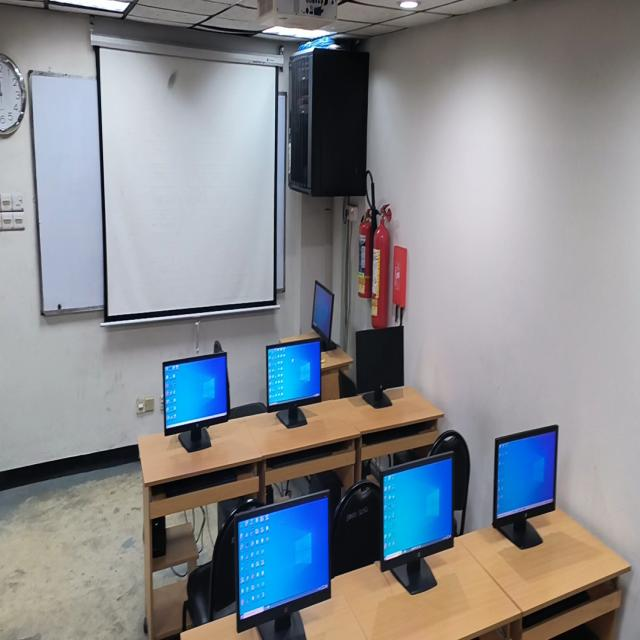Chair: (183, 507, 235, 625), (331, 475, 379, 578), (430, 422, 467, 457)
Fire Extinguisher: (354, 177, 376, 302), (372, 202, 392, 328)
Light: (47, 0, 134, 18), (260, 31, 333, 38), (398, 0, 418, 12)
Monitor: (238, 492, 330, 640), (379, 458, 451, 592), (492, 424, 558, 554), (161, 348, 230, 452), (264, 340, 323, 420), (354, 327, 403, 409), (312, 280, 334, 344)
Projector: (259, 0, 337, 29)
